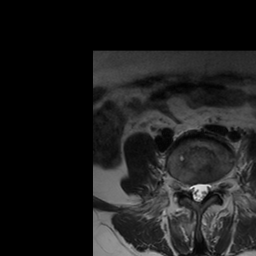CCS_normal: (195, 176, 202, 206)
LFS_normal: (210, 177, 218, 195)
LLS_normal: (203, 175, 210, 201)
RFS_normal: (180, 177, 188, 199)
RLS_normal: (188, 177, 195, 203)
